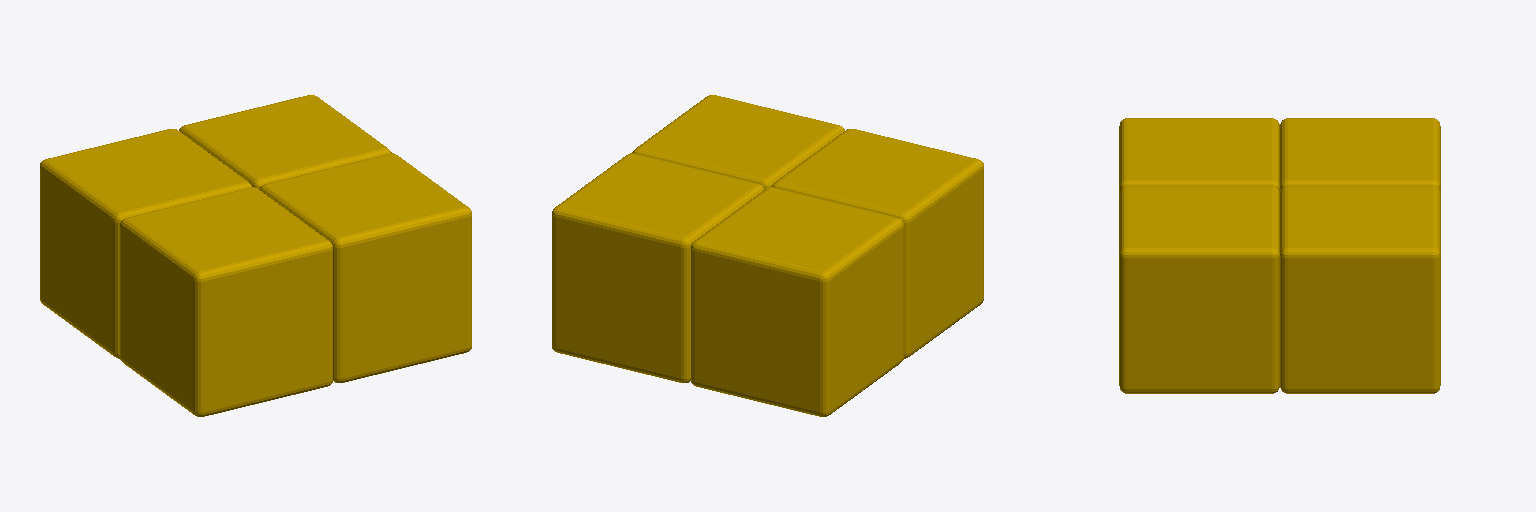
File: formas2.obj
3 views of the same model, side by side, from view 1: azimuth 30°, elevation 25°; view 2: azimuth 150°, elevation 25°; view 3: azimuth 270°, elevation 25° (orthographic).
Visible parts, largest first — view 1: Cube.006_Cube.018; view 2: Cube.006_Cube.018; view 3: Cube.006_Cube.018.
Part boxes in pixels (left/top/right/bottom): Cube.006_Cube.018: left=40, top=95, right=471, bottom=416; Cube.006_Cube.018: left=552, top=95, right=983, bottom=416; Cube.006_Cube.018: left=1119, top=118, right=1440, bottom=393.
Size of the model in its own units: 2 by 1 by 2.